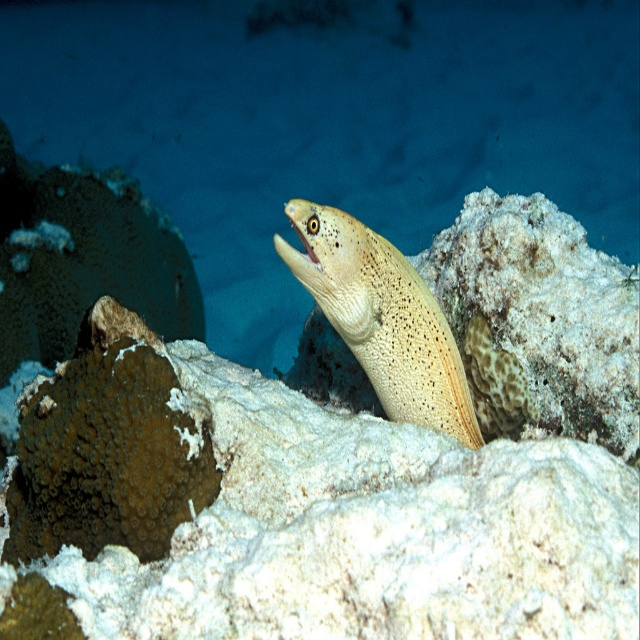Lizard: (260, 191, 474, 449)
